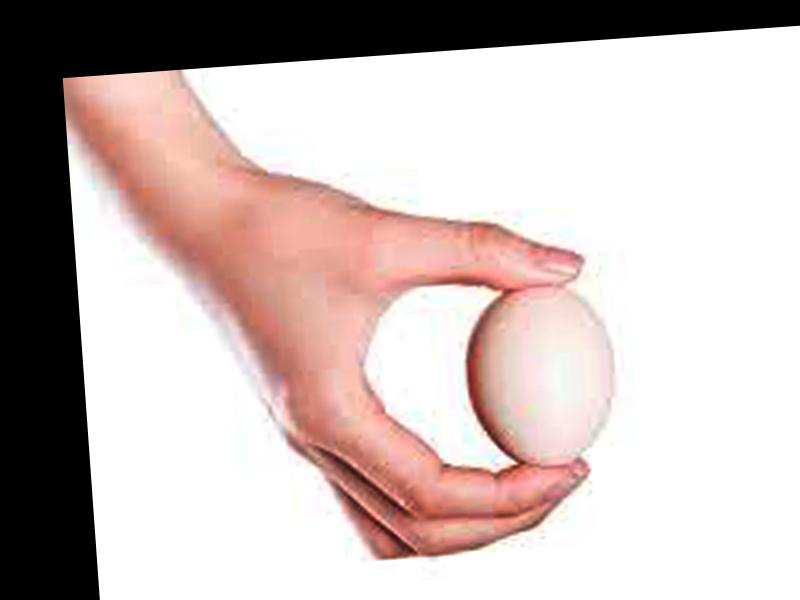Eggs: (460, 278, 621, 473)
